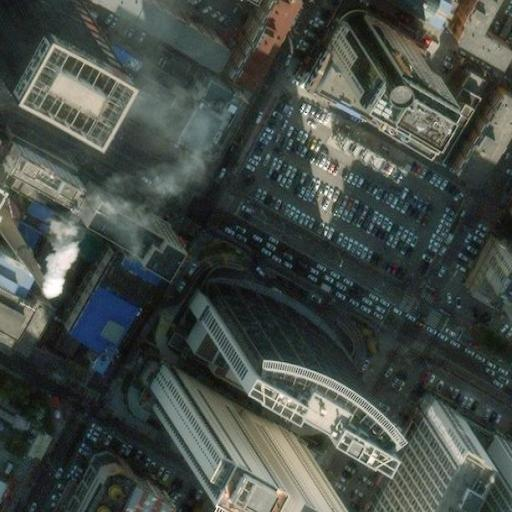building: (137, 368, 297, 495), (182, 277, 346, 396), (38, 13, 188, 125), (51, 232, 156, 364), (179, 320, 313, 414), (366, 400, 459, 512), (0, 158, 57, 338), (322, 9, 422, 94), (69, 182, 170, 257), (419, 66, 490, 158), (300, 50, 385, 126), (104, 0, 216, 55), (55, 456, 160, 512), (214, 0, 289, 75), (454, 87, 512, 175), (165, 66, 227, 141), (0, 406, 39, 457), (462, 271, 495, 299)
